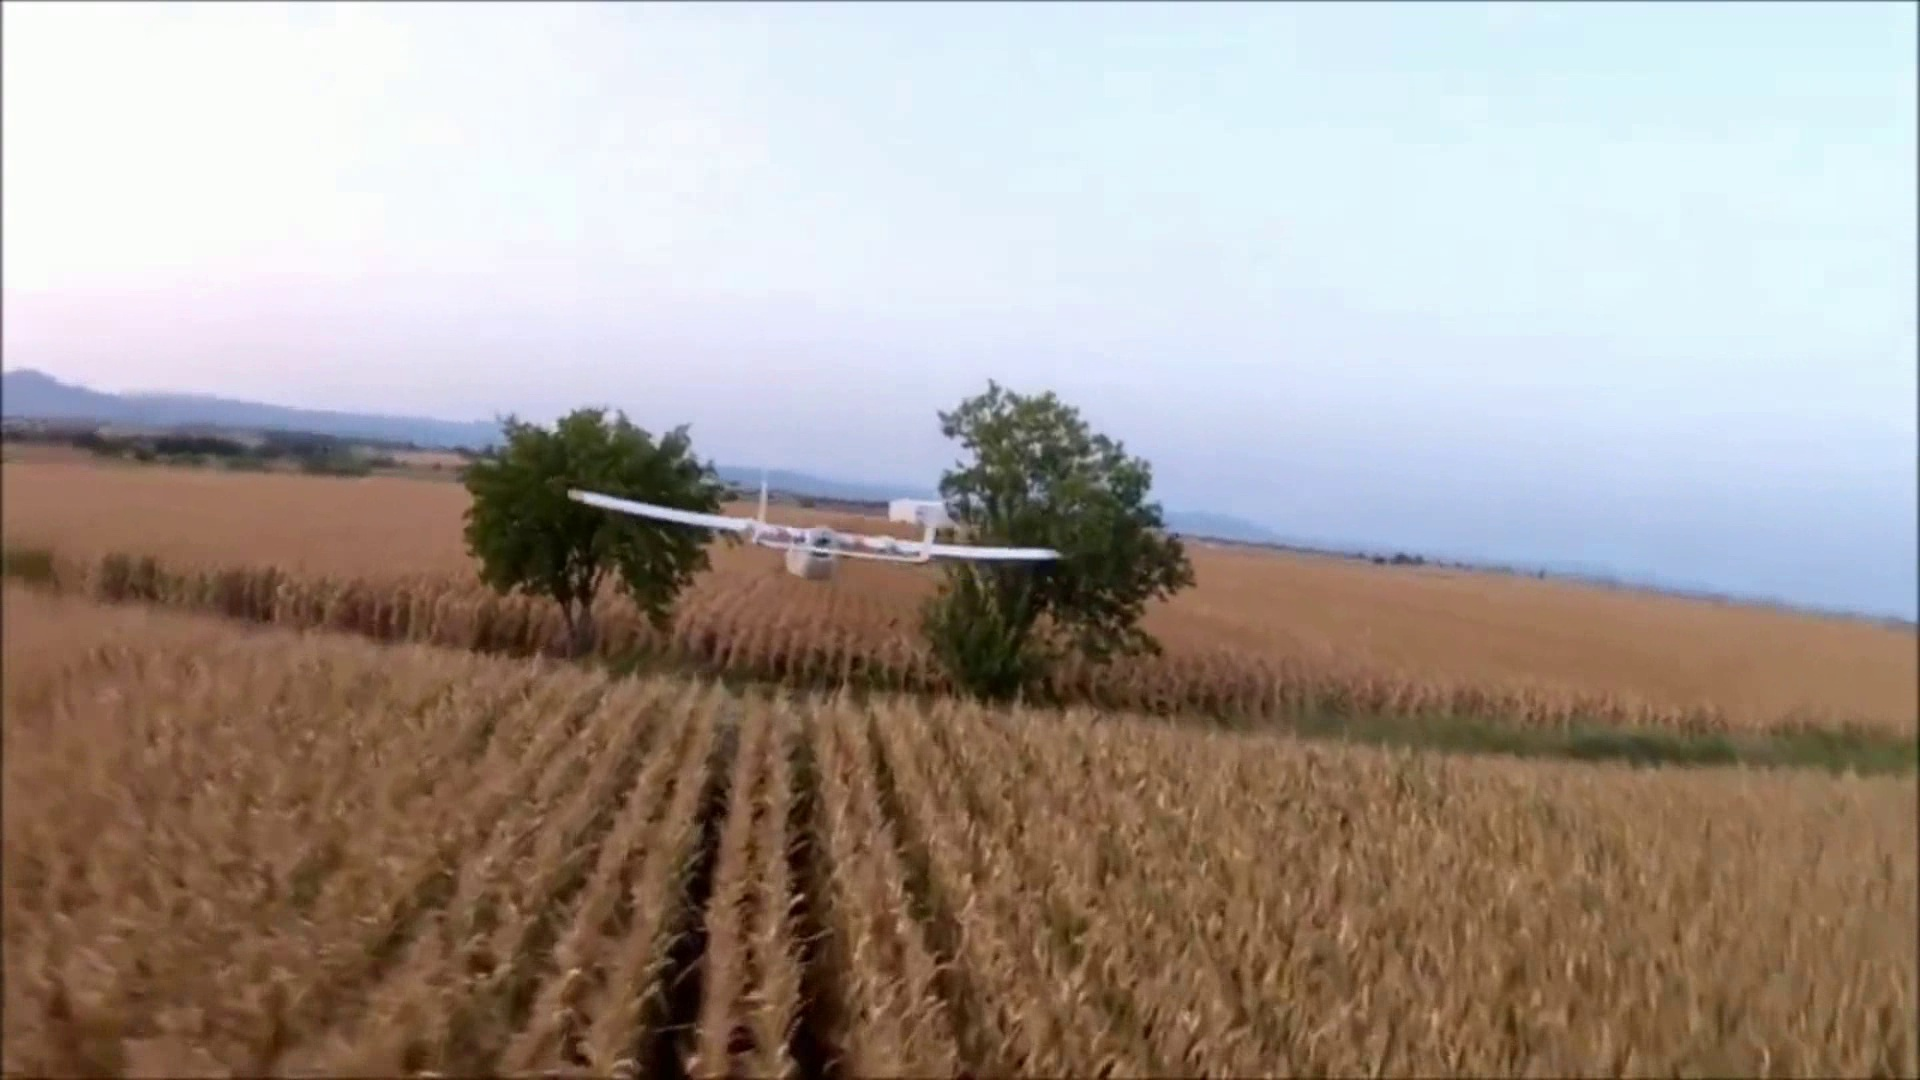airplane: (571, 483, 1062, 578)
